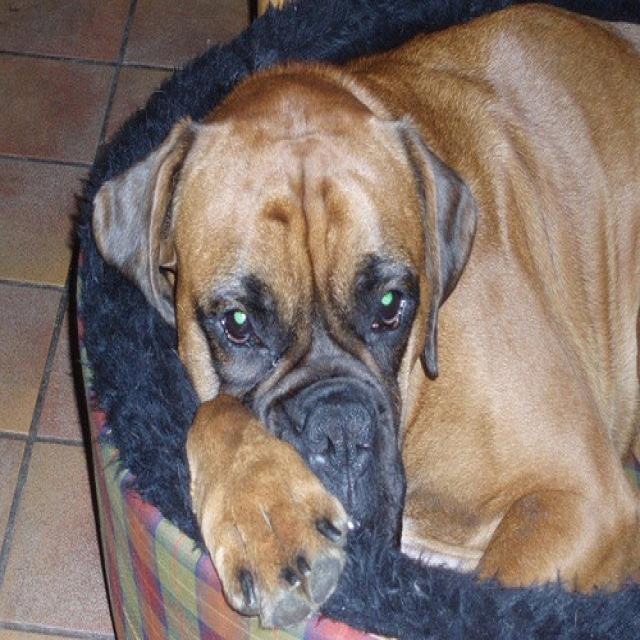dog-boxer: (82, 2, 637, 637)
